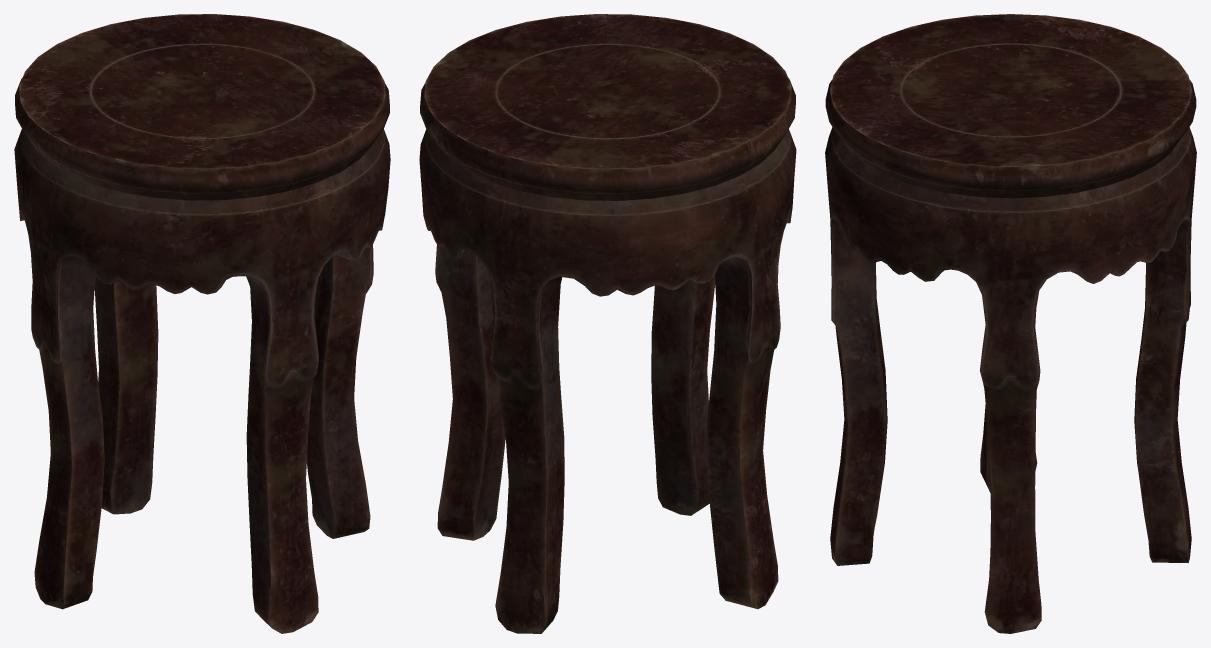
Rendered from woodentable_02.glb.
3 renders of one model, left to right at view 1: azimuth 30°, elevation 25°; view 2: azimuth 150°, elevation 25°; view 3: azimuth 270°, elevation 25°, orthographic.
Visible parts, largest first — view 1: WoodenTable_02; view 2: WoodenTable_02; view 3: WoodenTable_02.
Part boxes in pixels (left/top/right/bottom): WoodenTable_02: left=14, top=14, right=390, bottom=633; WoodenTable_02: left=419, top=14, right=796, bottom=633; WoodenTable_02: left=825, top=14, right=1196, bottom=633.
Size of the model in its own units: 0.3007 by 0.4177 by 0.3007.
1 material, 1 textured.
